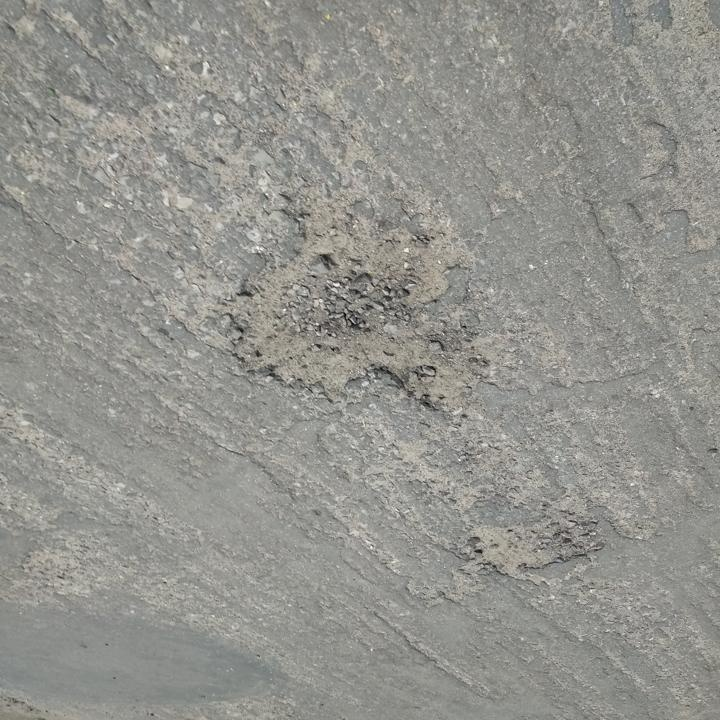pothole: (230, 195, 482, 418), (463, 512, 611, 586)
